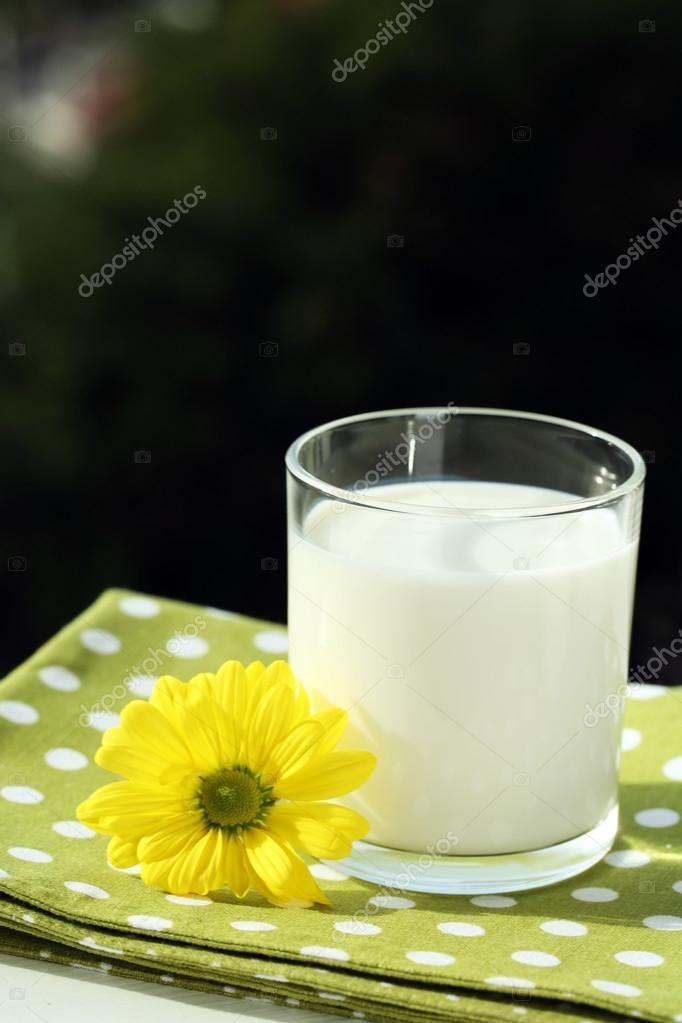produk_susu: (376, 431, 611, 873)
